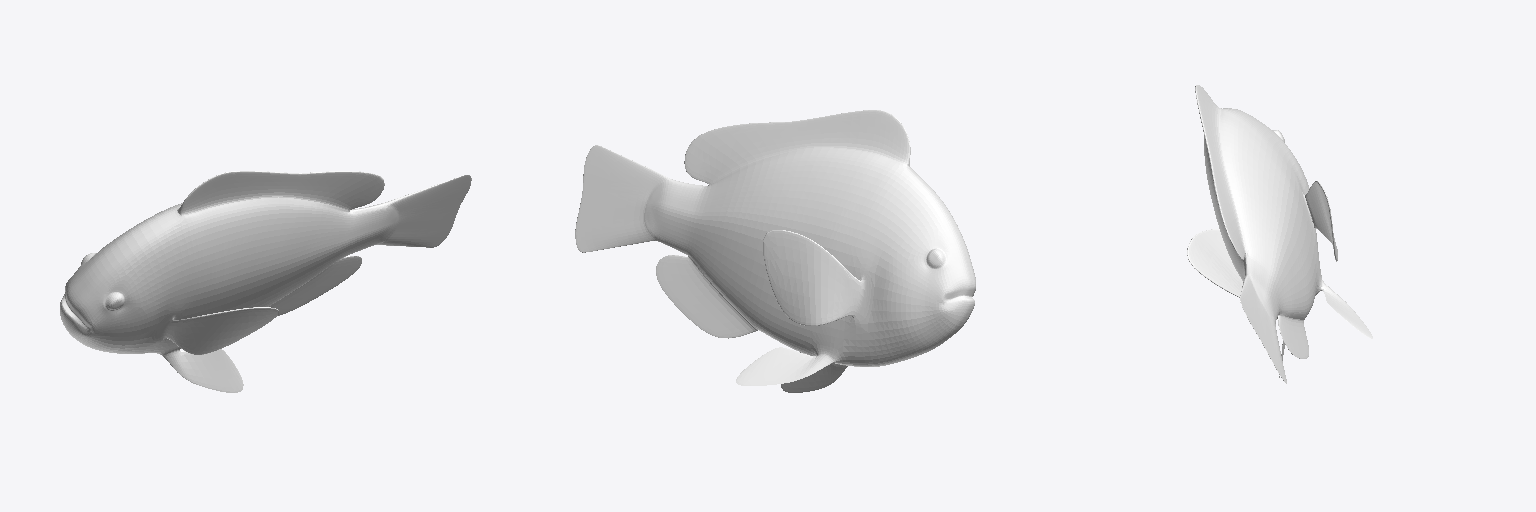
Rendered from fish2.obj.
3 views of the same model, side by side, from view 1: azimuth 30°, elevation 25°; view 2: azimuth 150°, elevation 25°; view 3: azimuth 270°, elevation 25° (orthographic).
Visible parts, largest first — view 1: 12265_Fish_v1_L2.001; view 2: 12265_Fish_v1_L2.001; view 3: 12265_Fish_v1_L2.001.
Part boxes in pixels (left/top/right/bottom): 12265_Fish_v1_L2.001: left=60, top=171, right=471, bottom=392; 12265_Fish_v1_L2.001: left=575, top=110, right=975, bottom=392; 12265_Fish_v1_L2.001: left=1187, top=85, right=1372, bottom=383.
Bounding box in the file's own units: 4.12 × 2.61 × 1.67.